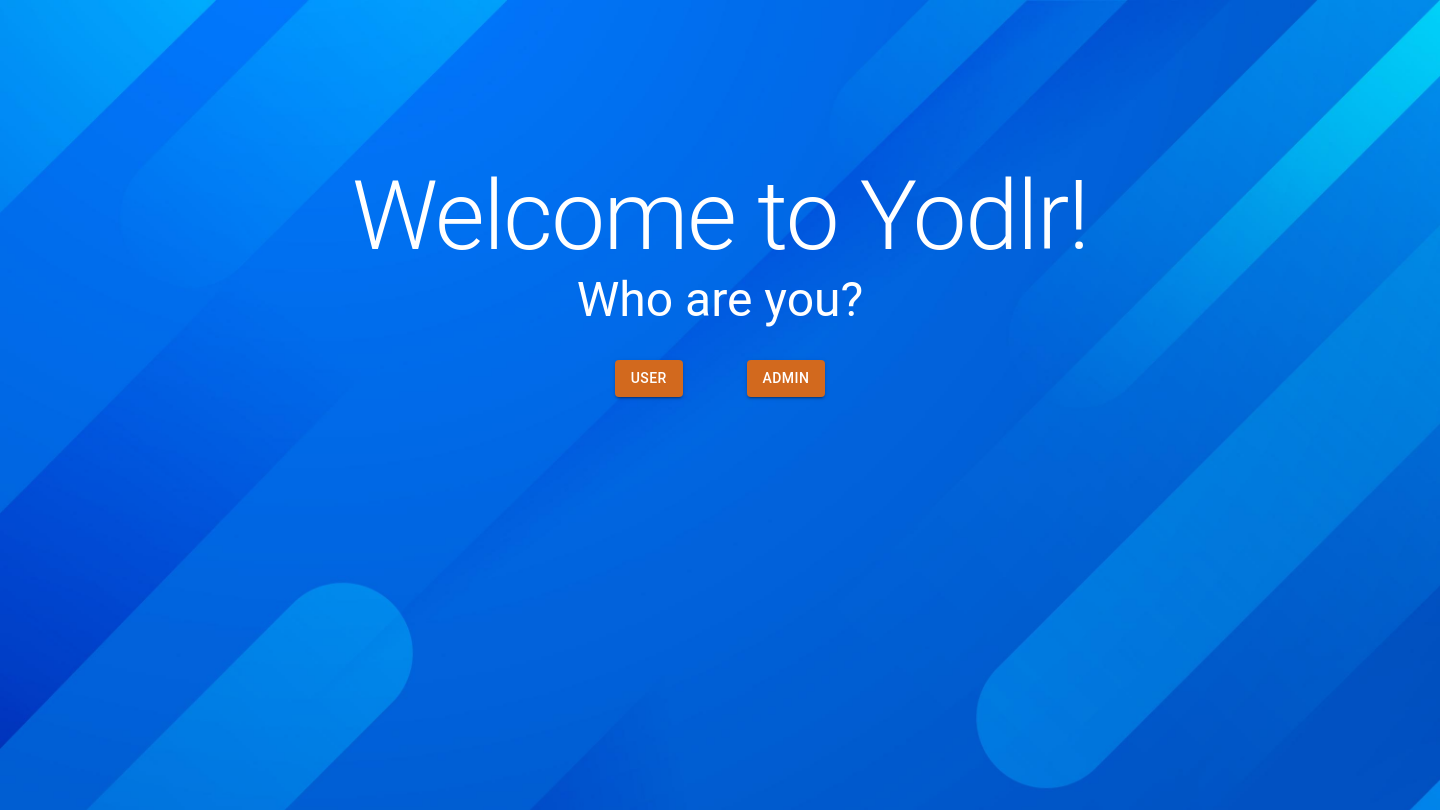
Scenario: handles button click for admin
Expected: the text "Admin Portal" is not shown
Step 1. Click the link "Admin" → (786, 378), box [747,360,825,396]
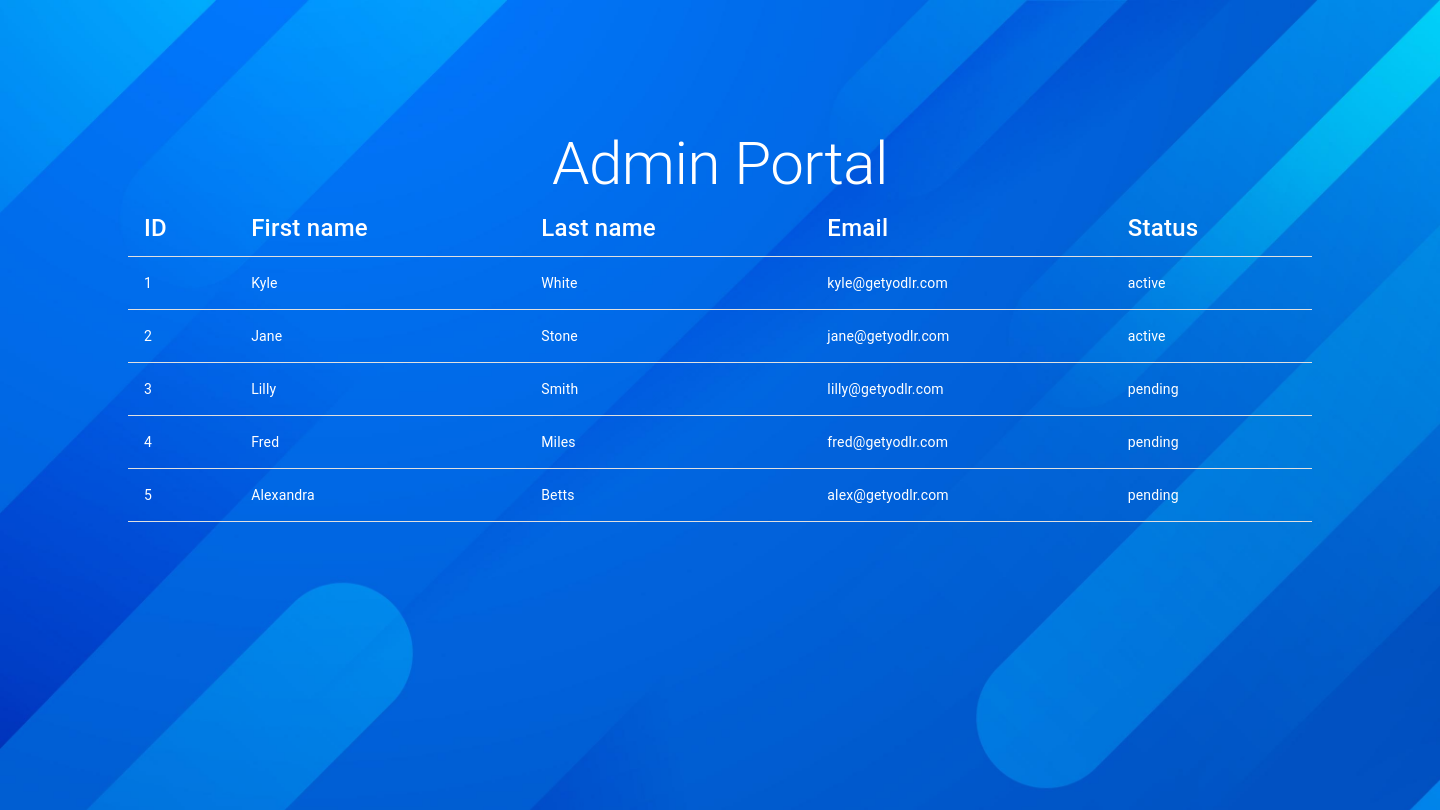
Expected: the heading "Admin Portal" is shown, [552,128,888,199]
